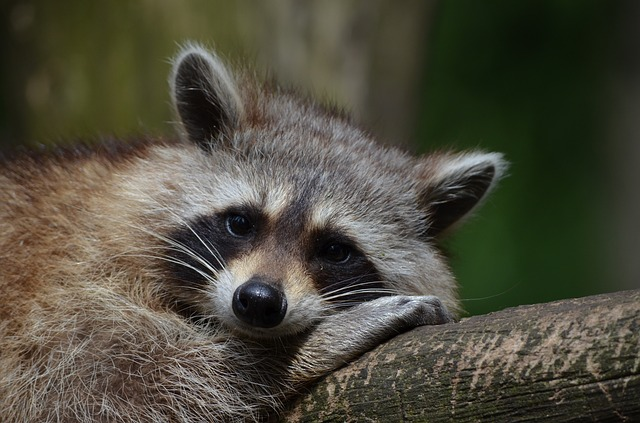raccoon: (8, 34, 505, 422)
